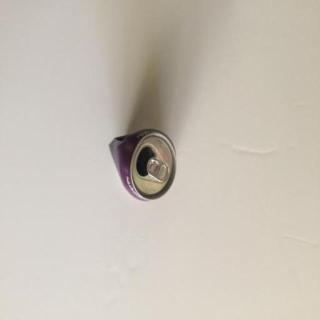Anorganik: (107, 127, 180, 206)
